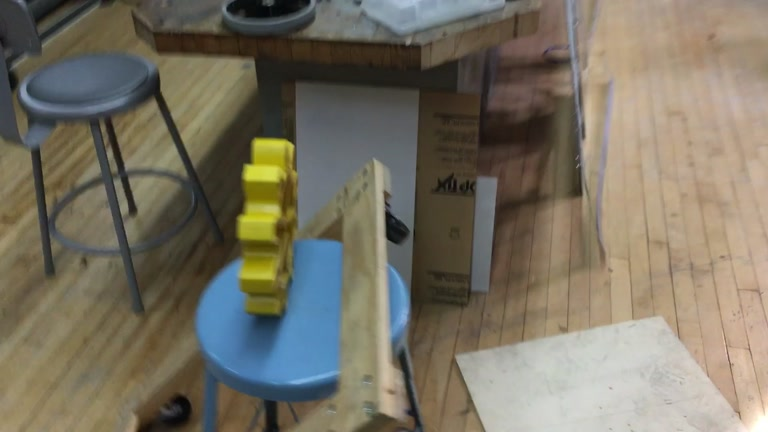gear: (236, 138, 299, 321)
